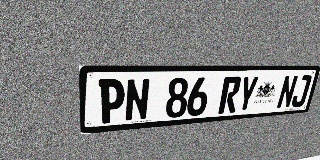6: (186, 77, 211, 117)
8: (165, 77, 190, 118)
J: (290, 75, 312, 108)
N: (124, 78, 150, 122), (276, 75, 299, 109)
P: (99, 79, 125, 124)
R: (218, 76, 242, 114)
Y: (236, 76, 259, 112)
